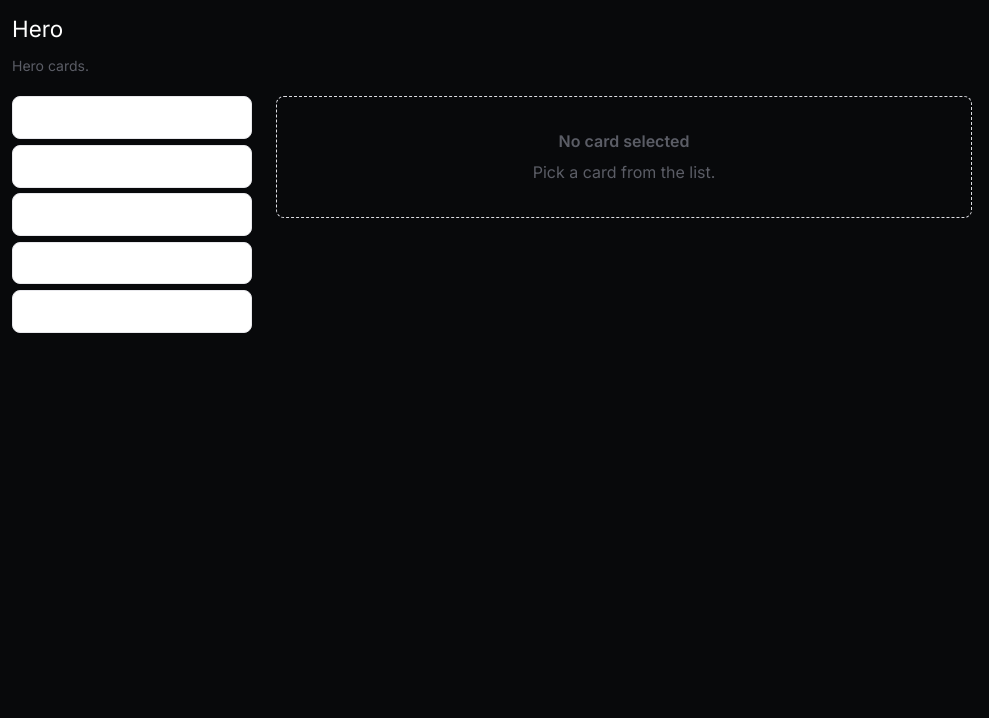
it: SectionCardsPage › Cancel returns to the empty state without saving
Click the button "1 — Business Goals": (132, 118) [12,96,252,139]
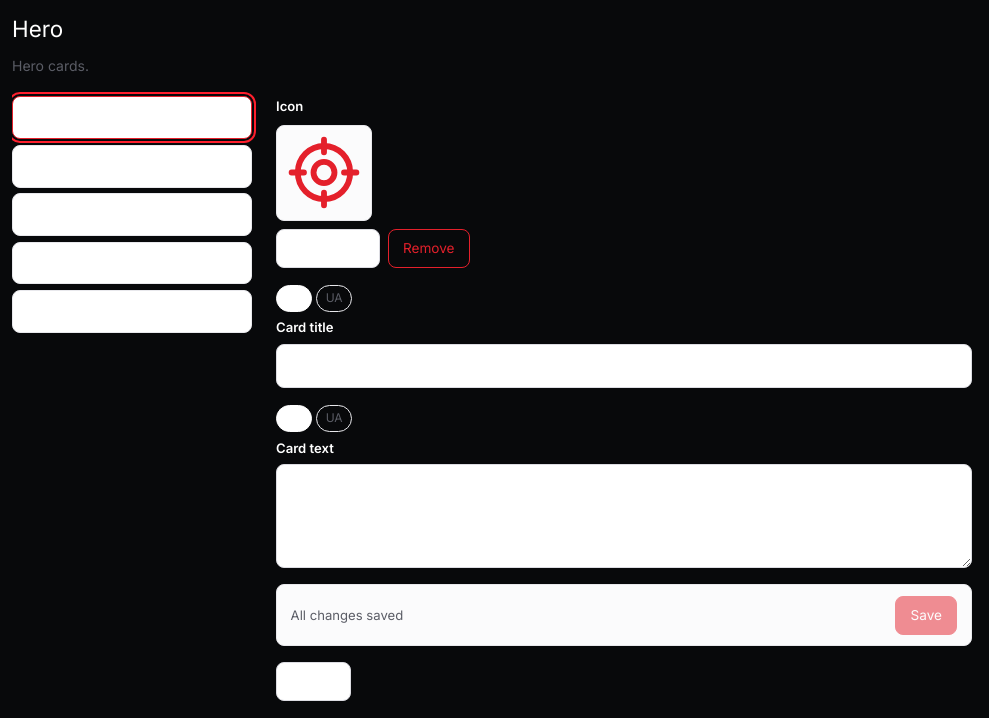
Click the button "Cancel": (314, 682) [276,662,351,701]
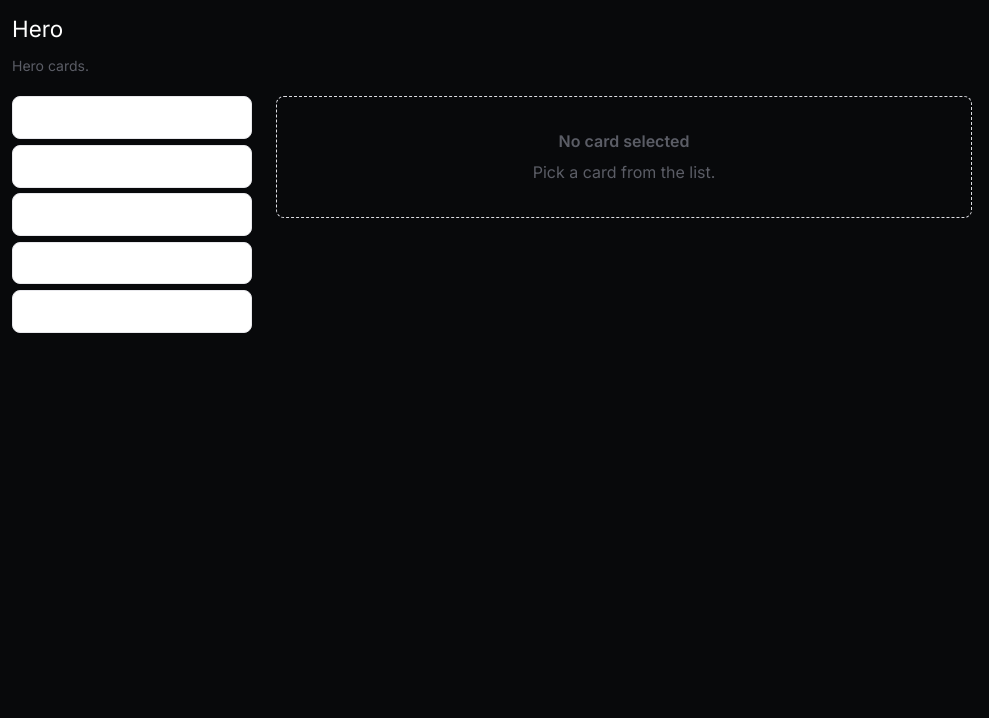
Check: the text "No card selected" is shown, box [559,131,689,151]
